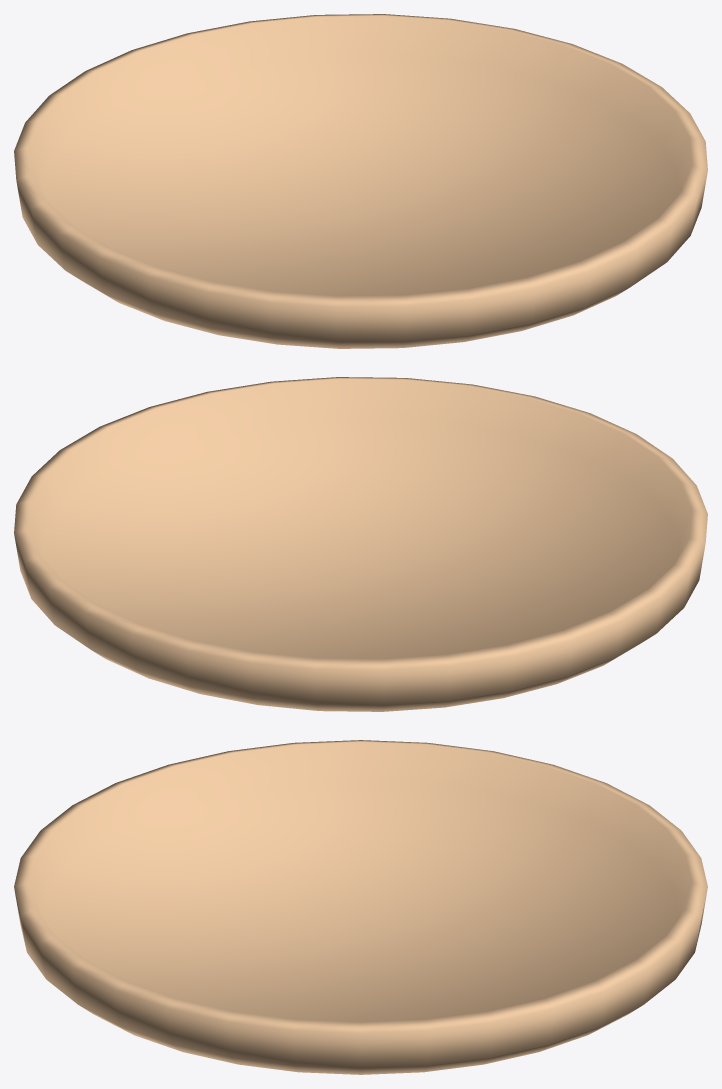
File: tray.glb
3 renders of one model, top to bottom at view 1: azimuth 30°, elevation 25°; view 2: azimuth 150°, elevation 25°; view 3: azimuth 270°, elevation 25°, orthographic.
Parts seen in each view (by area): view 1: Tray; view 2: Tray; view 3: Tray.
Part boxes in pixels (x1,y1,x2,y2): Tray: (14, 14, 707, 348); Tray: (14, 377, 707, 711); Tray: (14, 740, 707, 1074).
Size of the model in its own units: 0.432 by 0.039 by 0.432.
